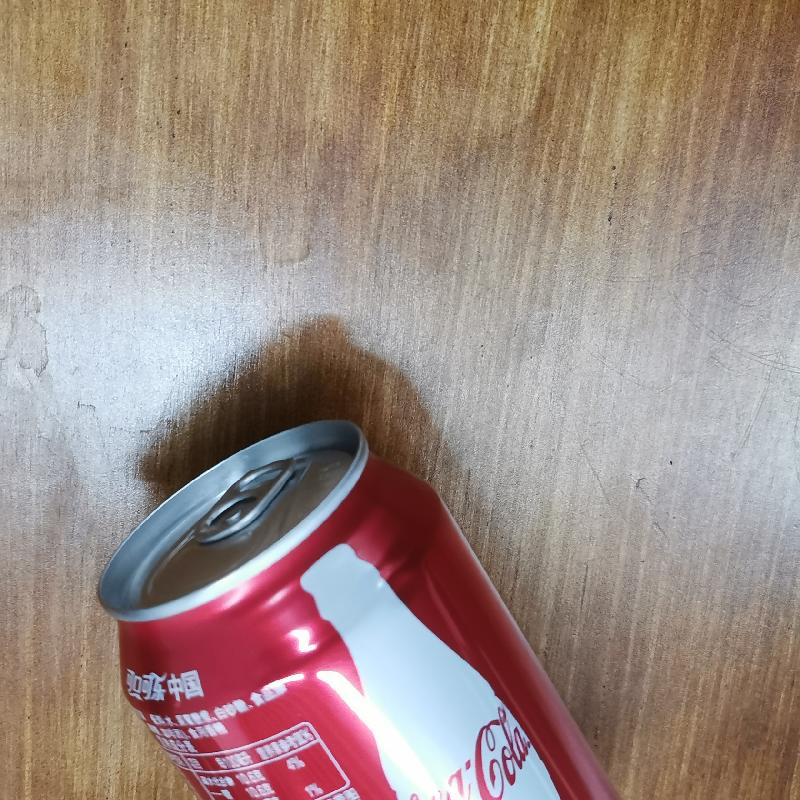cans: (89, 411, 644, 800)
